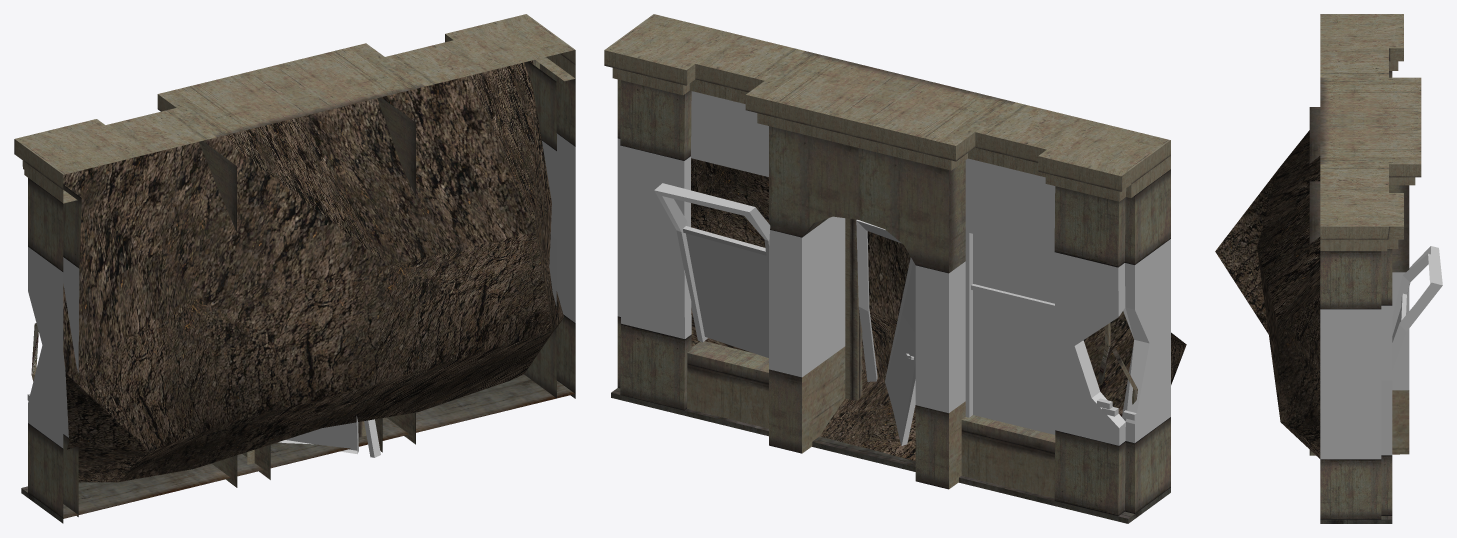
Rendered from Store_front_40.fbx.
The picture shows the model from 3 angles, left to right: view 1: azimuth 30°, elevation 25°; view 2: azimuth 150°, elevation 25°; view 3: azimuth 270°, elevation 25°; orthographic projection. The views are drawn at different scales.
Visible parts, largest first — view 1: Store_front_40; view 2: Store_front_40; view 3: Store_front_40.
Part boxes in pixels (box(x1,y1,x2,y2)): Store_front_40: box(14, 14, 575, 523); Store_front_40: box(604, 14, 1186, 523); Store_front_40: box(1215, 14, 1442, 523).
Size of the model in its own units: 700 by 458 by 317.
